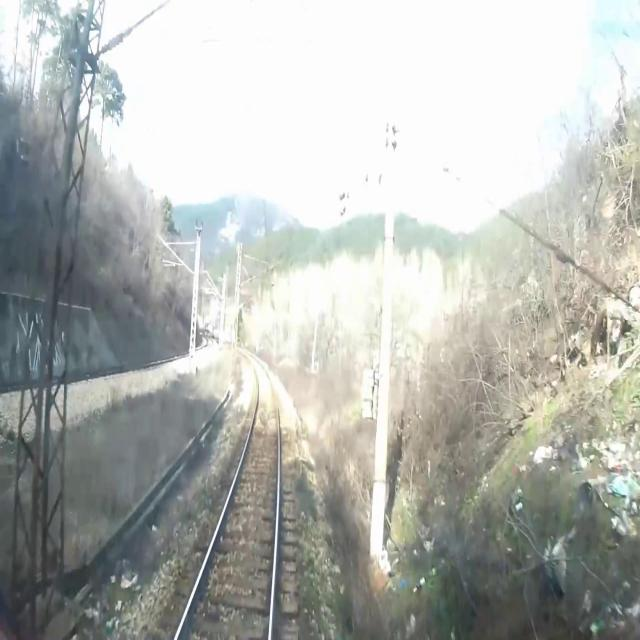rail-track: (179, 361, 277, 639)
